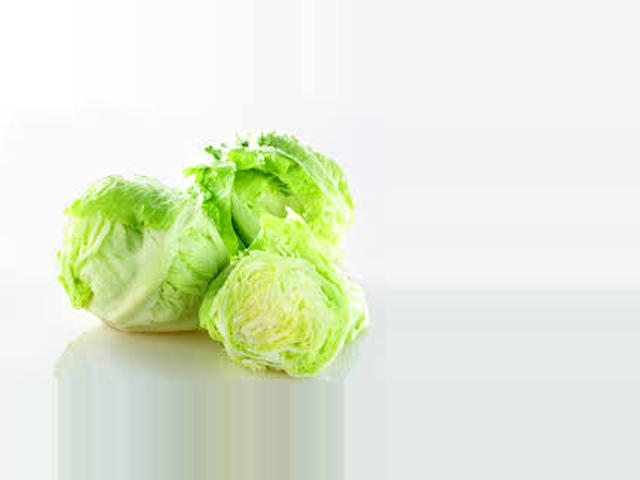lettuce: (176, 118, 358, 263)
